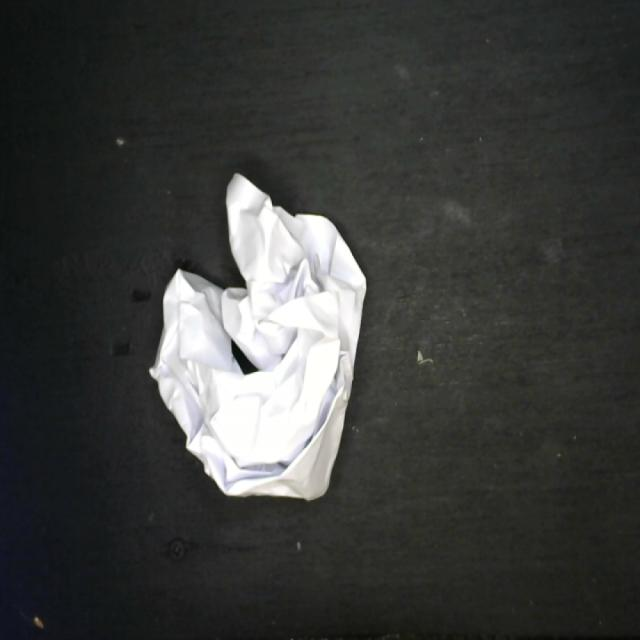biodegradable: (148, 166, 368, 504)
